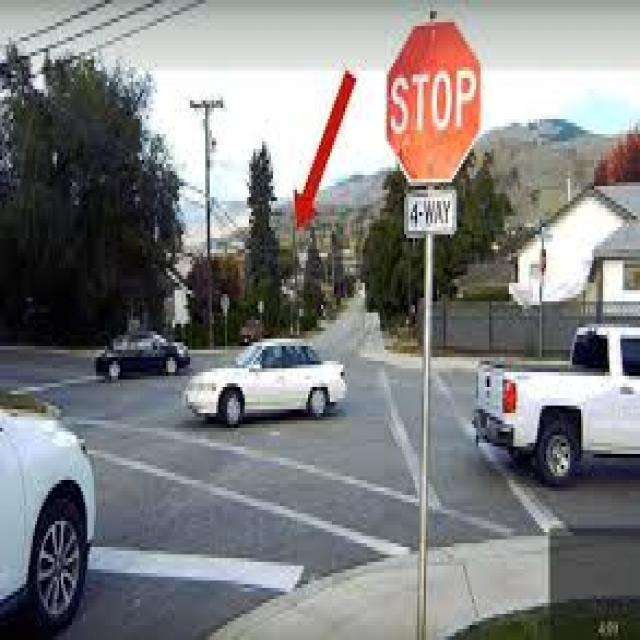stop-sign: (396, 18, 485, 177)
